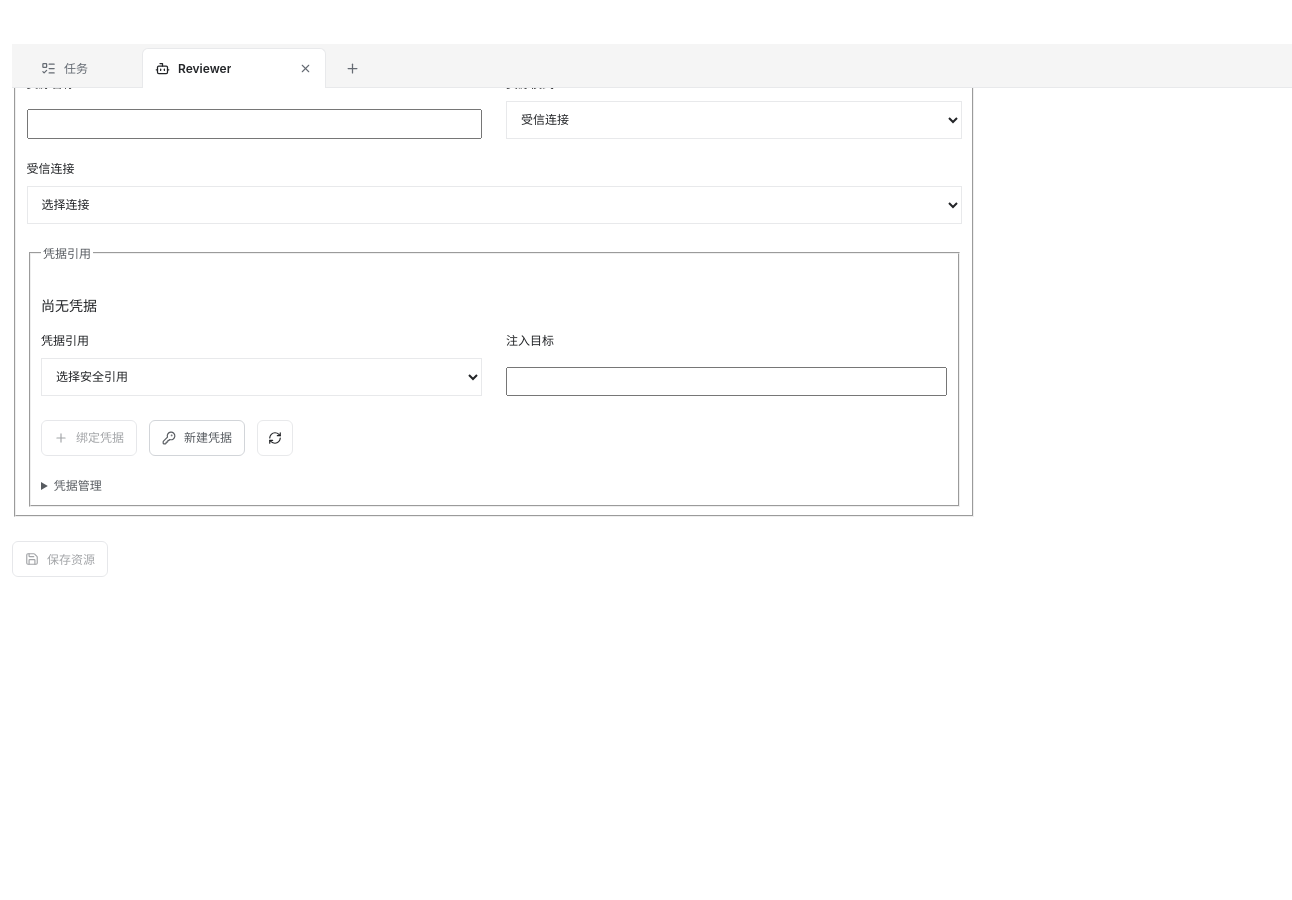
typed independent capability resource edits › saves mcp http using exact finite settings without fetching the external source
This screenshot has width=1292, height=900.
Type "Reviewed resource" into the field labelled "资源名称".
click(254, 124); type("Reviewed resource")  # box [26,109,482,139]
Select "HTTP" in the dropdown labelled "资源模式" at (734, 120), box [506,101,962,139]
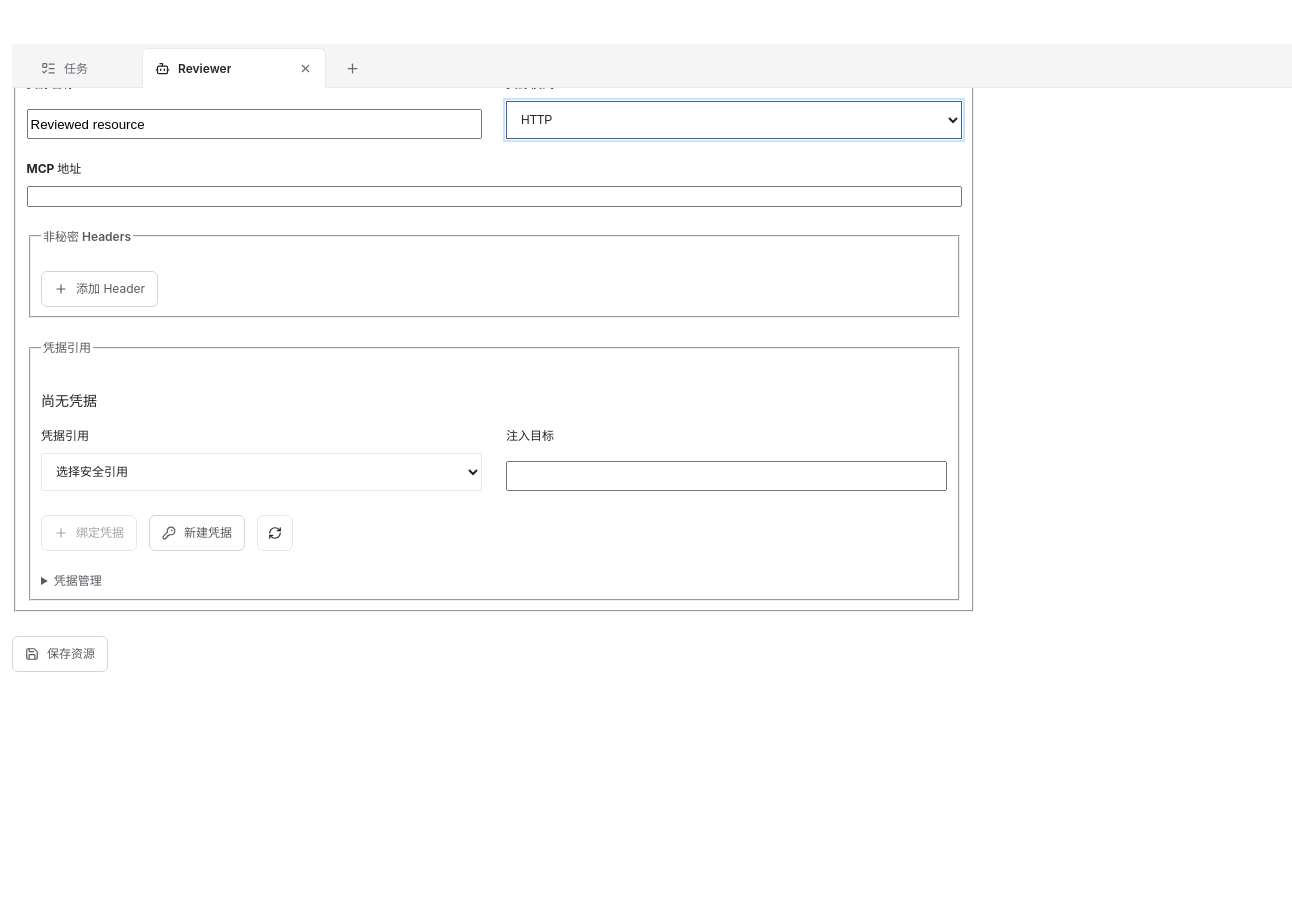
Type "http://127.0.0.1:19002/mcp" into the field labelled "MCP 地址".
click(494, 196); type("http://127.0.0.1:19002/mcp")  # box [26,186,962,207]
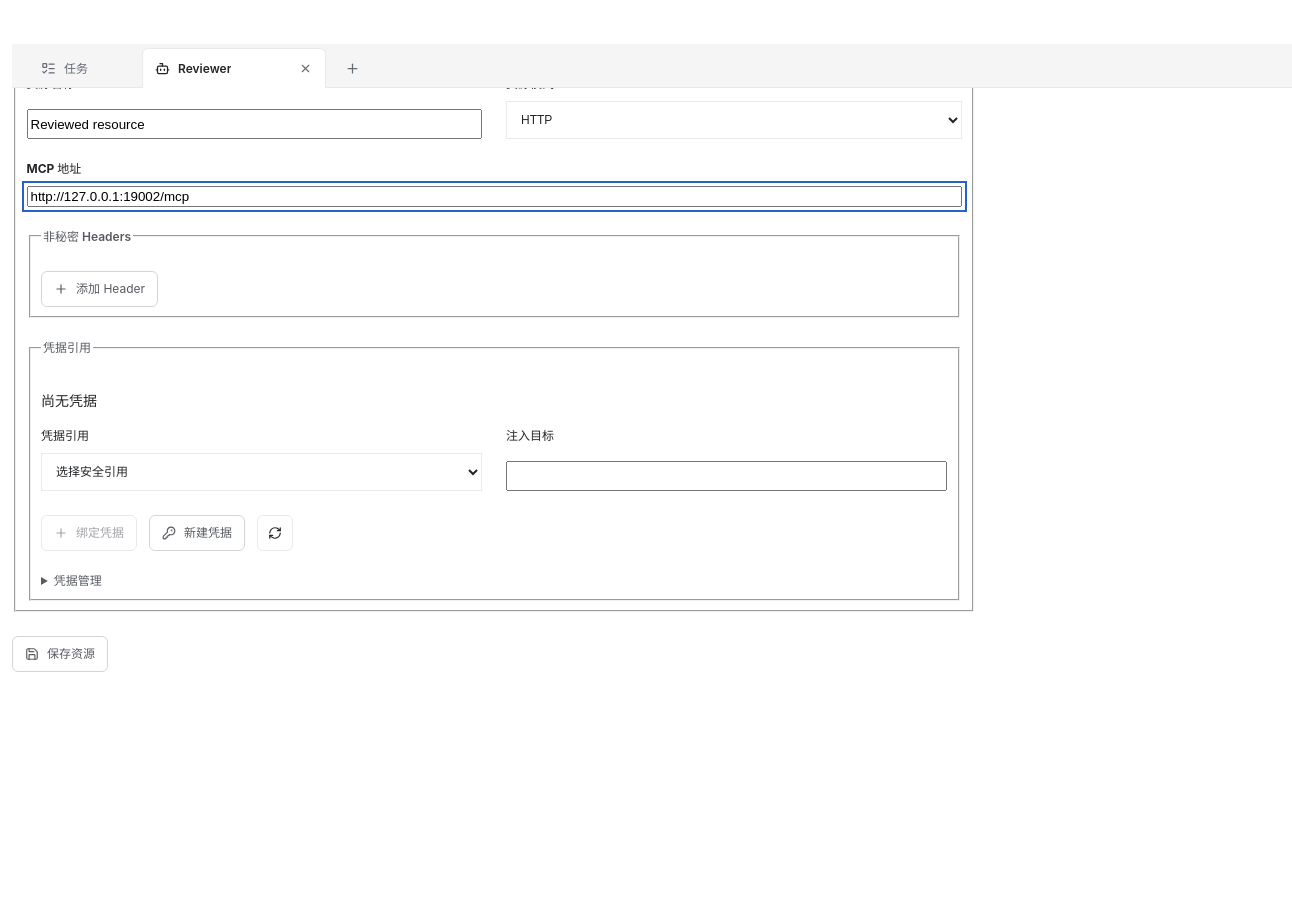
Click the button "添加 Header".
click(100, 289)  # box [41,271,158,307]
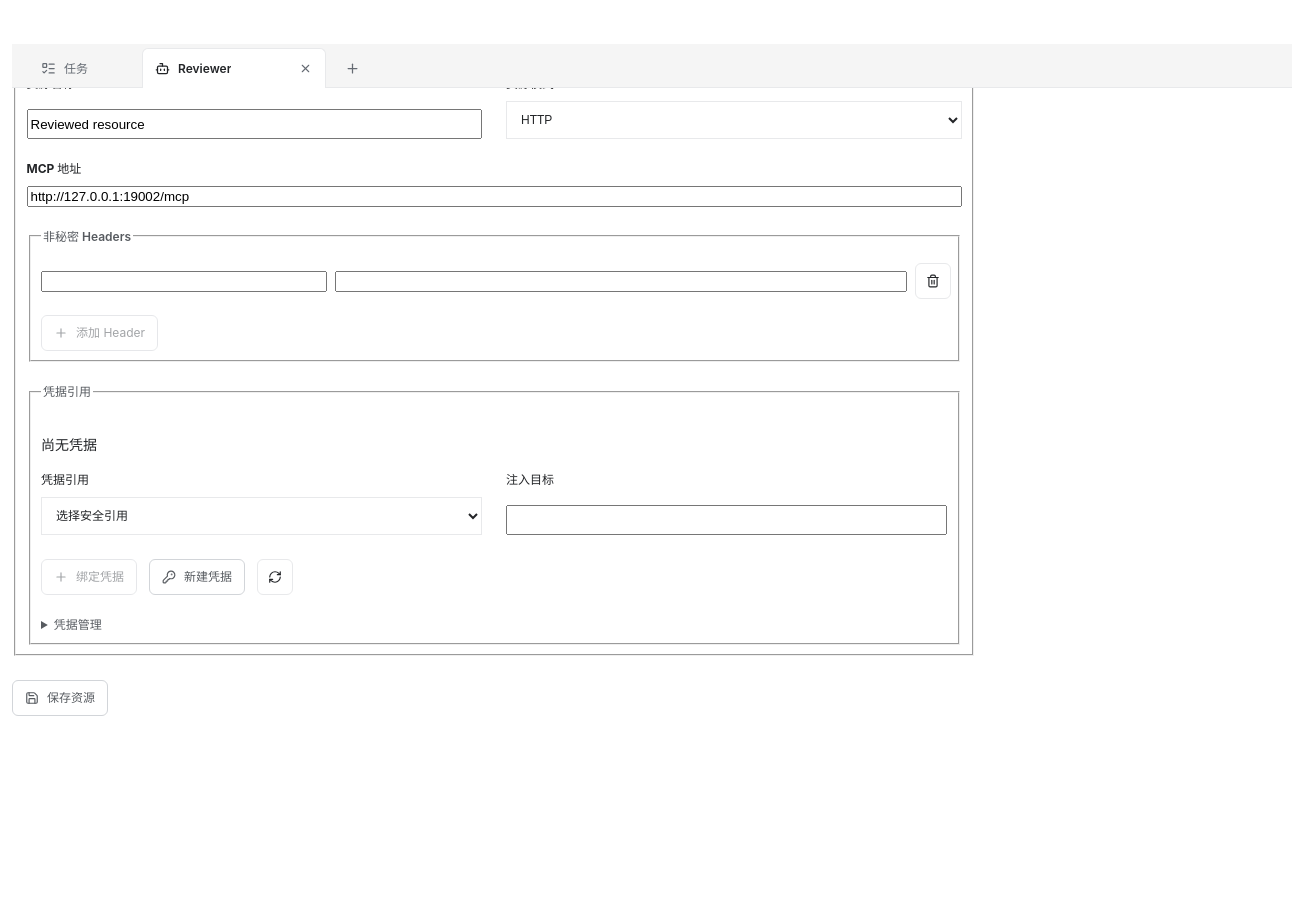
Type "X-Mode" into the field named "Header 名称 1".
click(184, 281); type("X-Mode")  # box [41,271,327,292]
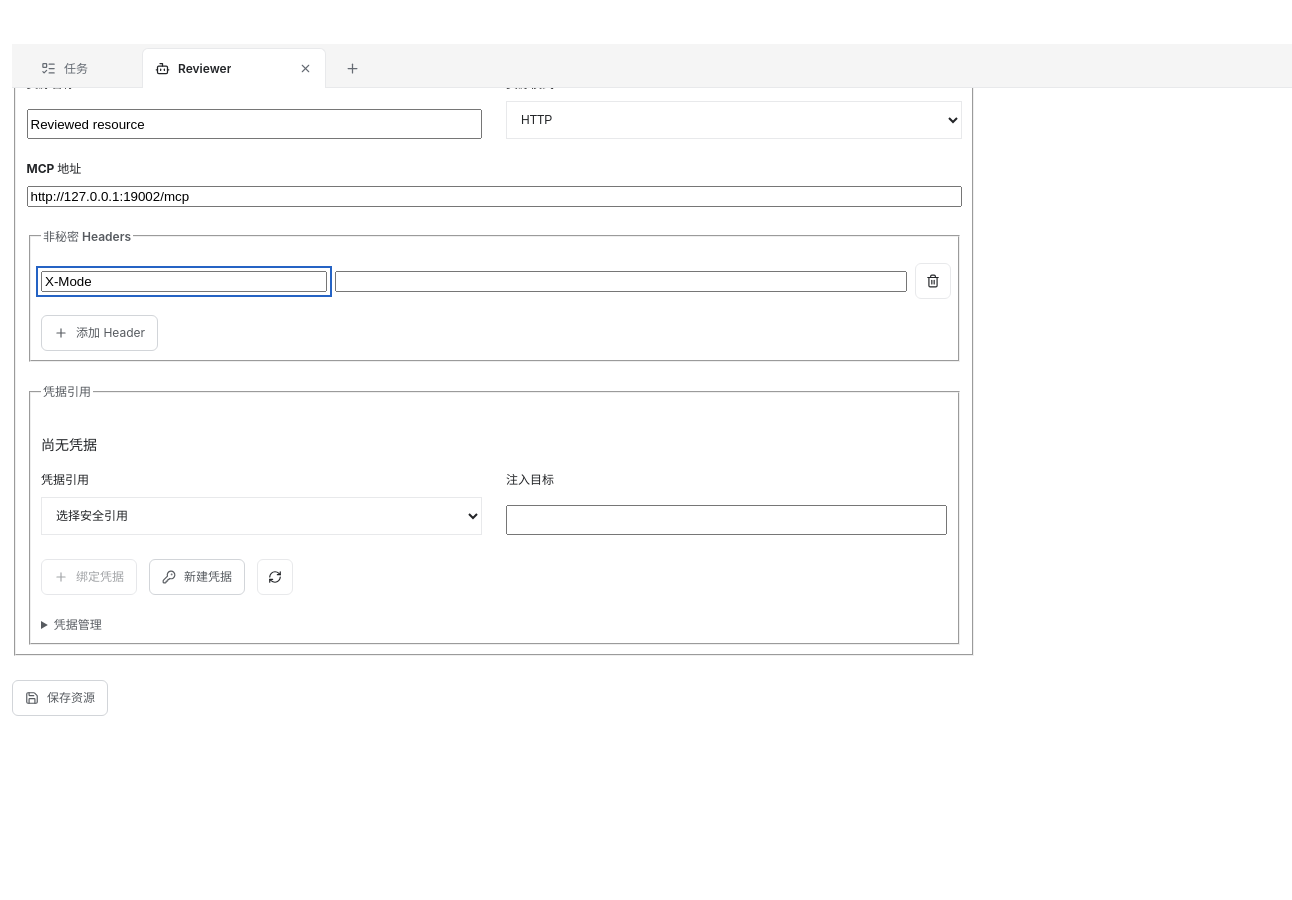
Type "read" into the field named "Header 值 1".
click(621, 281); type("read")  # box [335,271,907,292]
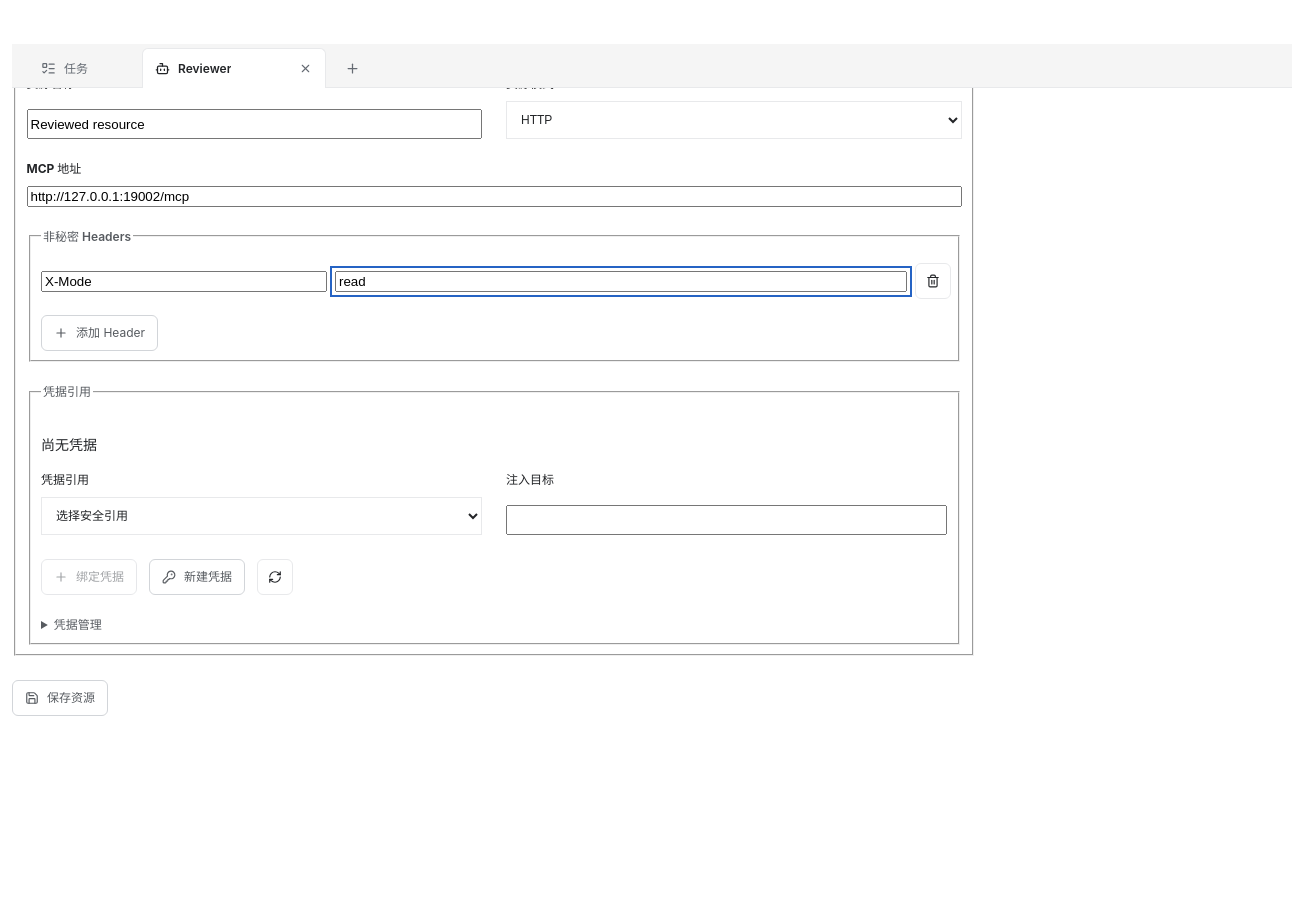
Click the button "保存资源".
click(60, 698)  # box [12,680,108,716]
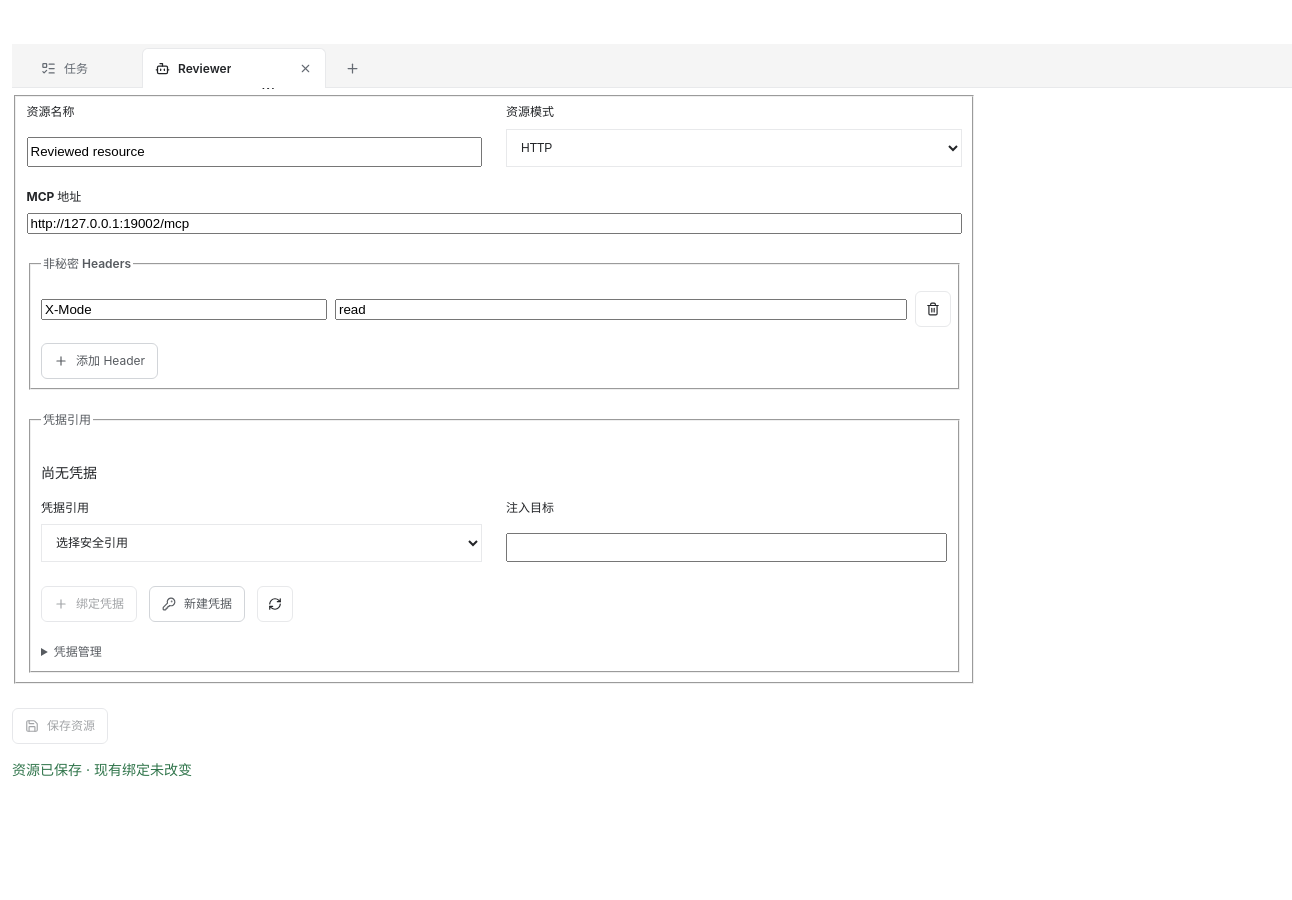
Expected: the text "资源已保存 · 现有绑定未改变" is shown, [12,761,192,778]
